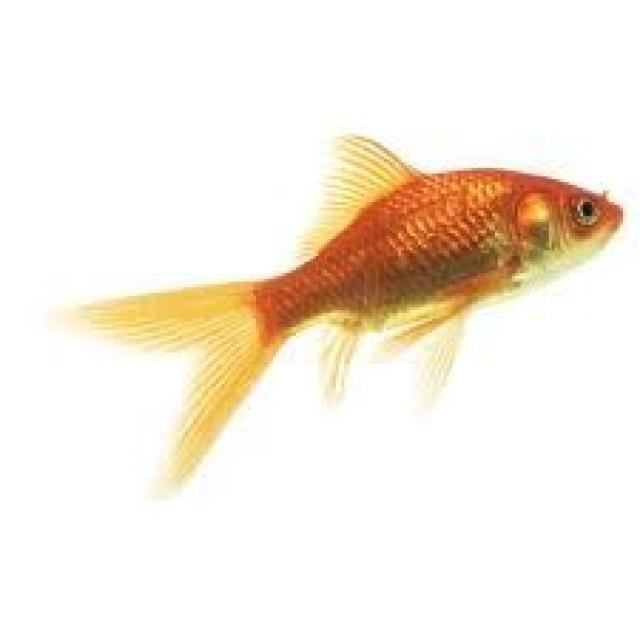Gold-Fish: (25, 60, 640, 458)
